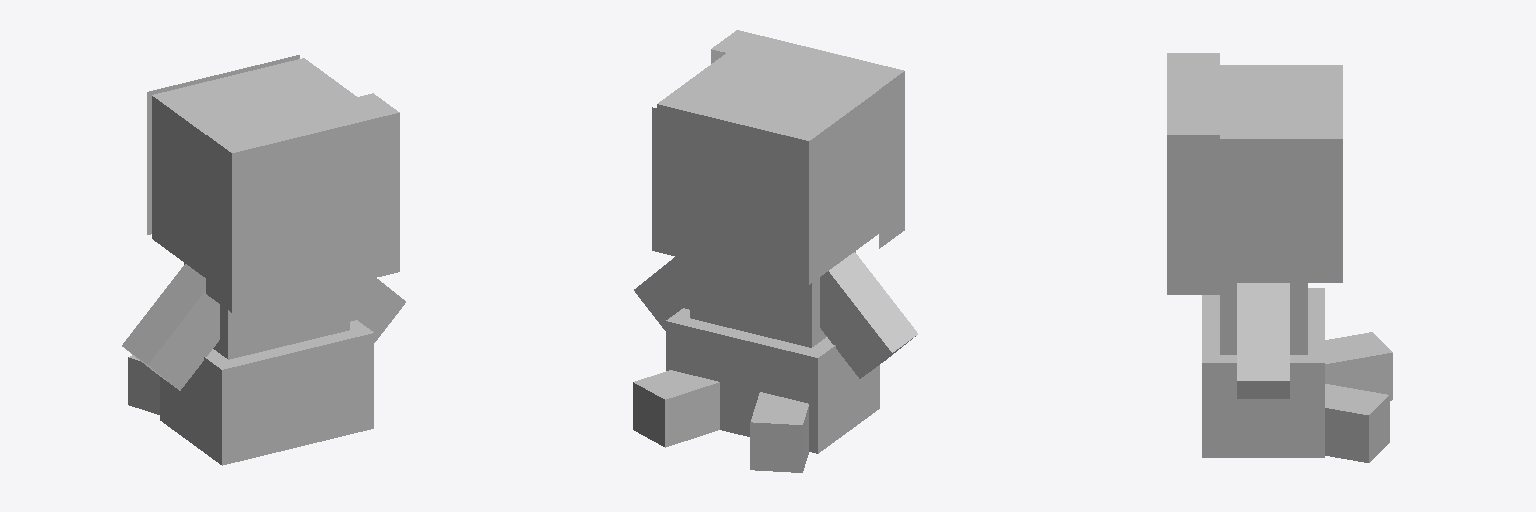
The model's file is fishbig.obj.
The picture shows the model from 3 angles: view 1: azimuth 30°, elevation 25°; view 2: azimuth 150°, elevation 25°; view 3: azimuth 270°, elevation 25°; orthographic projection.
Parts seen in each view (by area): view 1: hair2, button, head, arm, body, leg2, hair; view 2: hair, head, button, arm, hair2, body, leg, leg2; view 3: head, hair2, button, arm, leg, leg2, body.
Part boxes in pixels (left/top/right/bottom): hair2: left=206, top=93, right=399, bottom=312; button: left=160, top=320, right=373, bottom=465; head: left=152, top=58, right=356, bottom=277; arm: left=122, top=264, right=405, bottom=390; body: left=184, top=263, right=349, bottom=359; leg2: left=128, top=355, right=159, bottom=414; hair: left=147, top=55, right=299, bottom=234; hair: left=652, top=107, right=804, bottom=287; head: left=657, top=53, right=878, bottom=284; button: left=666, top=308, right=879, bottom=453; arm: left=634, top=252, right=917, bottom=378; hair2: left=711, top=30, right=904, bottom=248; body: left=690, top=251, right=855, bottom=347; leg: left=633, top=370, right=719, bottom=447; leg2: left=750, top=392, right=808, bottom=472; head: left=1220, top=65, right=1342, bottom=282; hair2: left=1167, top=53, right=1219, bottom=294; button: left=1202, top=288, right=1324, bottom=457; arm: left=1237, top=283, right=1289, bottom=398; leg: left=1325, top=384, right=1389, bottom=462; leg2: left=1325, top=332, right=1392, bottom=400; body: left=1220, top=283, right=1307, bottom=354.
Bounding box in the file's own units: 1.06 × 1.28 × 0.8022.